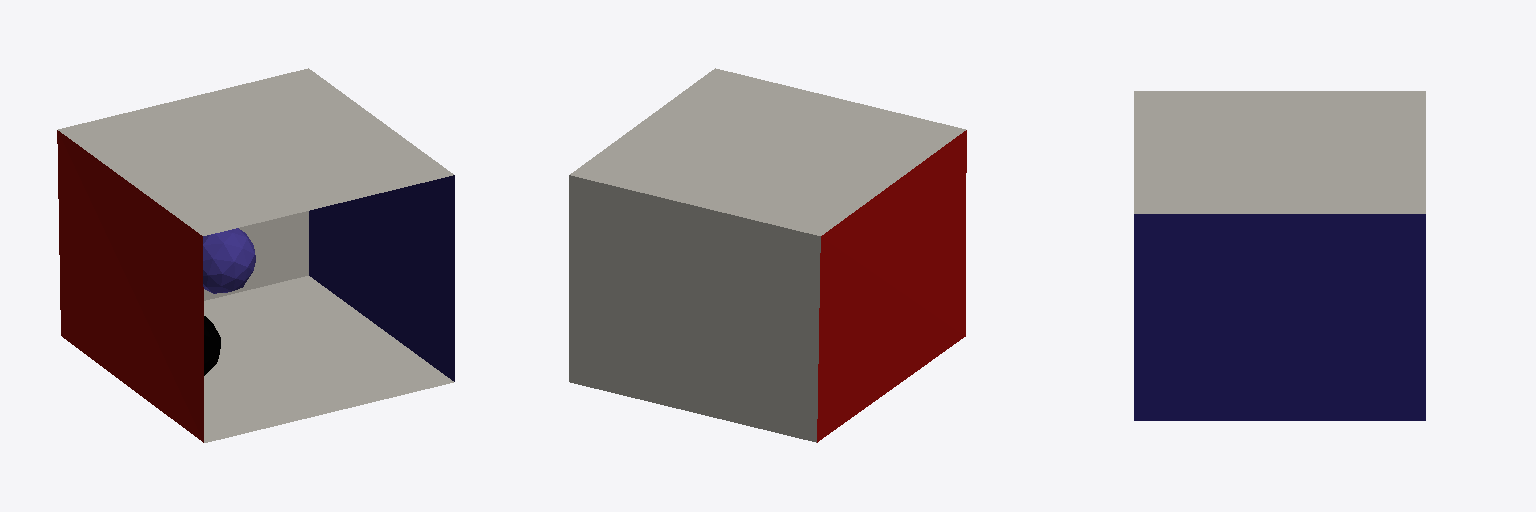
The model's file is CornellBox-Sphere-1002.obj.
The picture shows the model from 3 angles: view 1: azimuth 30°, elevation 25°; view 2: azimuth 150°, elevation 25°; view 3: azimuth 270°, elevation 25°; orthographic projection.
Visible parts, largest first — view 1: ceiling, leftWall, floor, rightWall, backWall, leftSphere, rightSphere; view 2: backWall, ceiling, leftWall; view 3: rightWall, ceiling.
Part boxes in pixels (left/top/right/bottom): ceiling: left=58, top=68, right=453, bottom=235; leftWall: left=57, top=130, right=203, bottom=442; floor: left=204, top=276, right=453, bottom=442; rightWall: left=309, top=175, right=454, bottom=381; backWall: left=204, top=211, right=308, bottom=300; leftSphere: left=203, top=228, right=255, bottom=293; rightSphere: left=204, top=316, right=220, bottom=375; backWall: left=569, top=175, right=820, bottom=442; ceiling: left=570, top=68, right=965, bottom=235; leftWall: left=817, top=130, right=966, bottom=442; rightWall: left=1134, top=214, right=1425, bottom=420; ceiling: left=1134, top=91, right=1425, bottom=213.
Size of the model in its own units: 2.02 by 1.59 by 2.03.